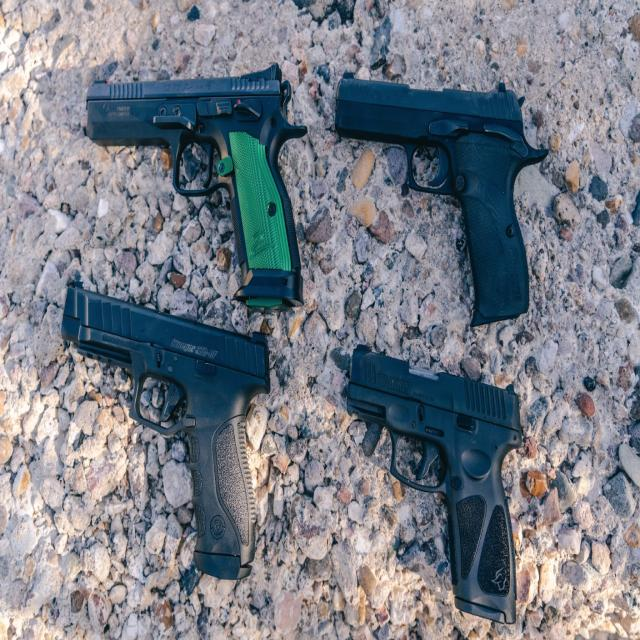HandGun: (61, 288, 270, 581), (86, 64, 308, 311), (335, 73, 550, 328), (346, 345, 525, 624)
